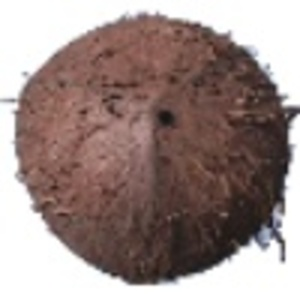coco: (9, 12, 300, 287)
